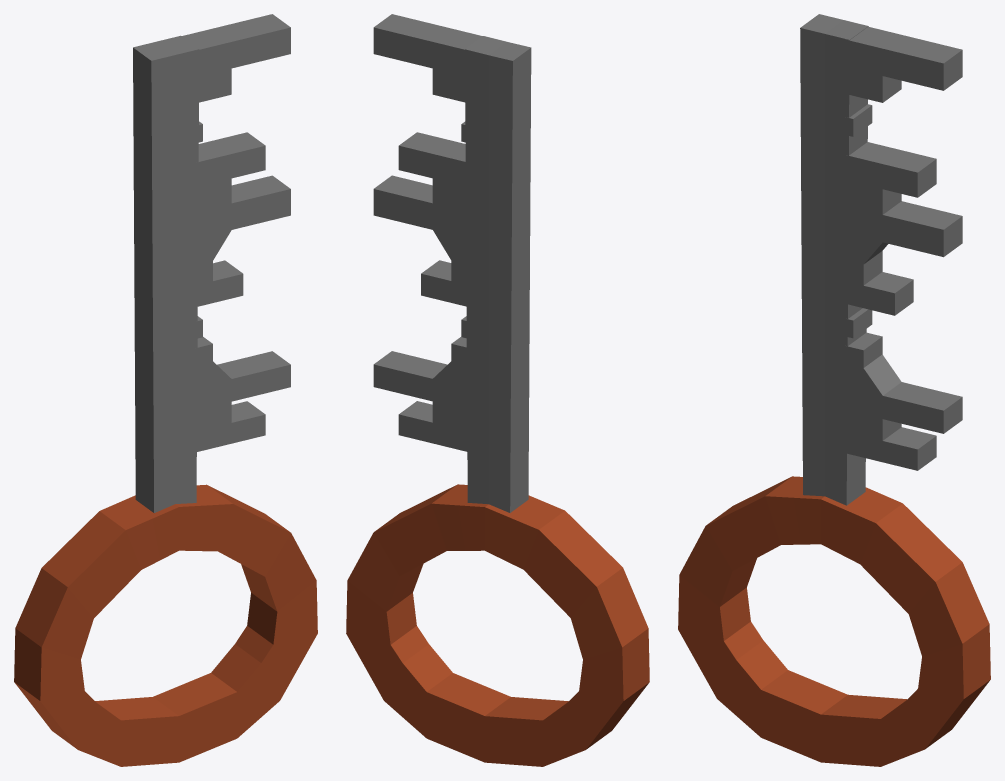
Rendered from key.fbx.
The picture shows the model from 3 angles, left to right: view 1: azimuth 30°, elevation 25°; view 2: azimuth 150°, elevation 25°; view 3: azimuth 330°, elevation 25°; orthographic projection. The views are drawn at different scales.
Parts seen in each view (by area): view 1: Cube.007, Cube.008, Cube.010; view 2: Cube.007, Cube.008, Cube.010; view 3: Cube.007, Cube.010, Cube.008.
Boxes of the visible parts, x1,y1,x2,y2 form: Cube.007: (14,484,317,766); Cube.008: (133,35,199,512); Cube.010: (182,14,290,452); Cube.007: (346,484,649,766); Cube.008: (465,36,531,512); Cube.010: (373,14,482,451); Cube.007: (678,476,990,766); Cube.010: (845,26,962,470); Cube.008: (800,14,868,505).
Bounding box in the file's own units: 50.87 × 123 × 8.46.
